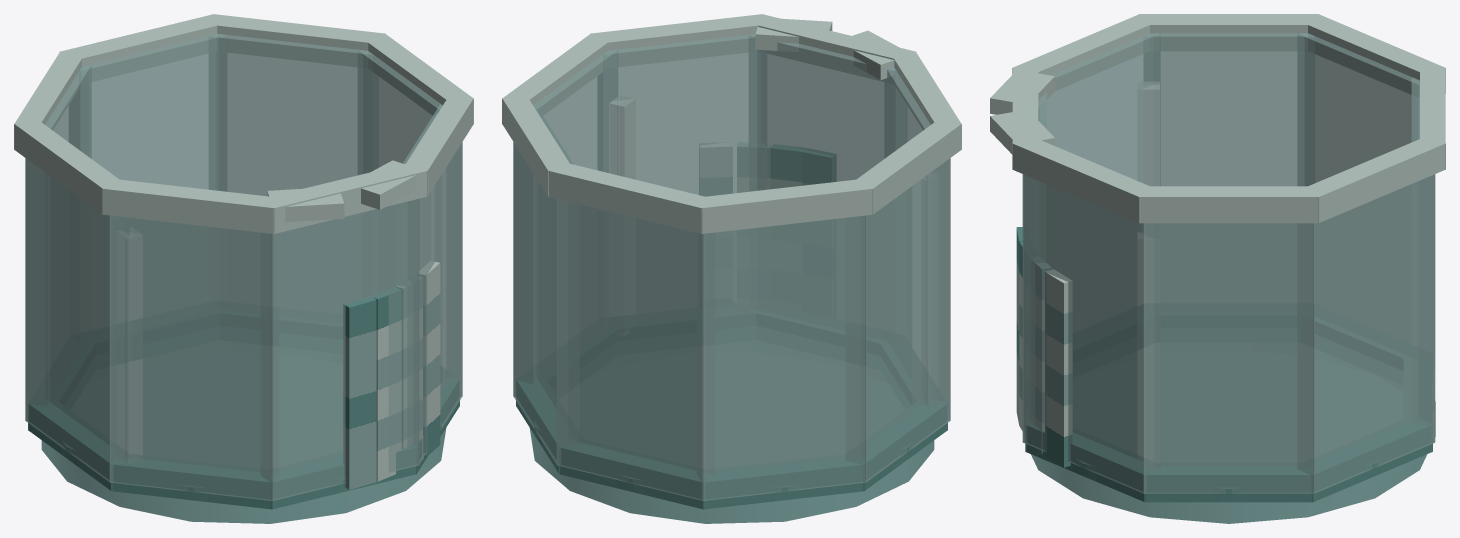
File: CMU3DCMBeakerMedicalSmallCloud.glb
3 views of the same model, side by side, from view 1: azimuth 30°, elevation 25°; view 2: azimuth 150°, elevation 25°; view 3: azimuth 270°, elevation 25° (orthographic).
Parts seen in each view (by area): view 1: thin hollow vessel wall 06, thin hollow vessel wall 07, closed vessel floor, thin hollow vessel wall 05, thin hollow vessel wall 02, thin hollow vessel wall 03, thin hollow vessel wall 08, thin hollow vessel wall 01, thin hollow vessel wall 04, rolled open mouth 06, original curved graduation column 16, thickened glass foot 06 (+20 smaller); view 2: thin hollow vessel wall 04, thin hollow vessel wall 03, closed vessel floor, thin hollow vessel wall 05, thin hollow vessel wall 08, thin hollow vessel wall 07, thin hollow vessel wall 02, thin hollow vessel wall 01, thin hollow vessel wall 06, rolled open mouth 04, thickened glass foot 04, rolled open mouth 03 (+20 smaller); view 3: thin hollow vessel wall 01, thin hollow vessel wall 02, closed vessel floor, thin hollow vessel wall 08, thin hollow vessel wall 05, thin hollow vessel wall 04, thin hollow vessel wall 06, rolled open mouth 01, thickened glass foot 01, thin hollow vessel wall 03, rolled open mouth 05, rolled open mouth 08 (+20 smaller).
Boxes of the visible parts, left/top/right/bottom form: thin hollow vessel wall 06: left=109, top=215, right=278, bottom=500; thin hollow vessel wall 07: left=261, top=199, right=419, bottom=500; closed vessel floor: left=41, top=340, right=446, bottom=523; thin hollow vessel wall 05: left=25, top=158, right=129, bottom=482; thin hollow vessel wall 02: left=209, top=33, right=378, bottom=196; thin hollow vessel wall 03: left=69, top=34, right=226, bottom=191; thin hollow vessel wall 08: left=396, top=104, right=462, bottom=465; thin hollow vessel wall 01: left=357, top=50, right=462, bottom=396; thin hollow vessel wall 04: left=25, top=65, right=91, bottom=420; rolled open mouth 06: left=102, top=178, right=280, bottom=233; original curved graduation column 16: left=343, top=296, right=376, bottom=489; thickened glass foot 06: left=111, top=456, right=275, bottom=509; thin hollow vessel wall 04: left=697, top=215, right=866, bottom=500; thin hollow vessel wall 03: left=556, top=199, right=714, bottom=500; closed vessel floor: left=529, top=340, right=934, bottom=523; thin hollow vessel wall 05: left=846, top=158, right=950, bottom=482; thin hollow vessel wall 08: left=597, top=34, right=766, bottom=196; thin hollow vessel wall 07: left=749, top=34, right=906, bottom=191; thin hollow vessel wall 02: left=513, top=104, right=579, bottom=465; thin hollow vessel wall 01: left=513, top=50, right=618, bottom=396; thin hollow vessel wall 06: left=884, top=67, right=950, bottom=420; rolled open mouth 04: left=695, top=178, right=873, bottom=233; thickened glass foot 04: left=703, top=455, right=864, bottom=509; rolled open mouth 03: left=547, top=161, right=710, bottom=233; thin hollow vessel wall 01: left=1143, top=223, right=1314, bottom=493; thin hollow vessel wall 02: left=1297, top=174, right=1435, bottom=493; closed vessel floor: left=1031, top=343, right=1435, bottom=523; thin hollow vessel wall 08: left=1022, top=174, right=1160, bottom=493; thin hollow vessel wall 05: left=1143, top=33, right=1314, bottom=186; thin hollow vessel wall 04: left=1297, top=33, right=1419, bottom=186; thin hollow vessel wall 06: left=1038, top=33, right=1160, bottom=185; rolled open mouth 01: left=1139, top=186, right=1319, bottom=223; thickened glass foot 01: left=1144, top=463, right=1313, bottom=502; thin hollow vessel wall 03: left=1411, top=78, right=1434, bottom=442; rolled open mouth 05: left=1139, top=14, right=1319, bottom=50; rolled open mouth 08: left=1012, top=136, right=1149, bottom=223.
Size of the model in its own units: 0.4055 by 0.3415 by 0.4262.
Materials: 9 (4 with a texture image).
